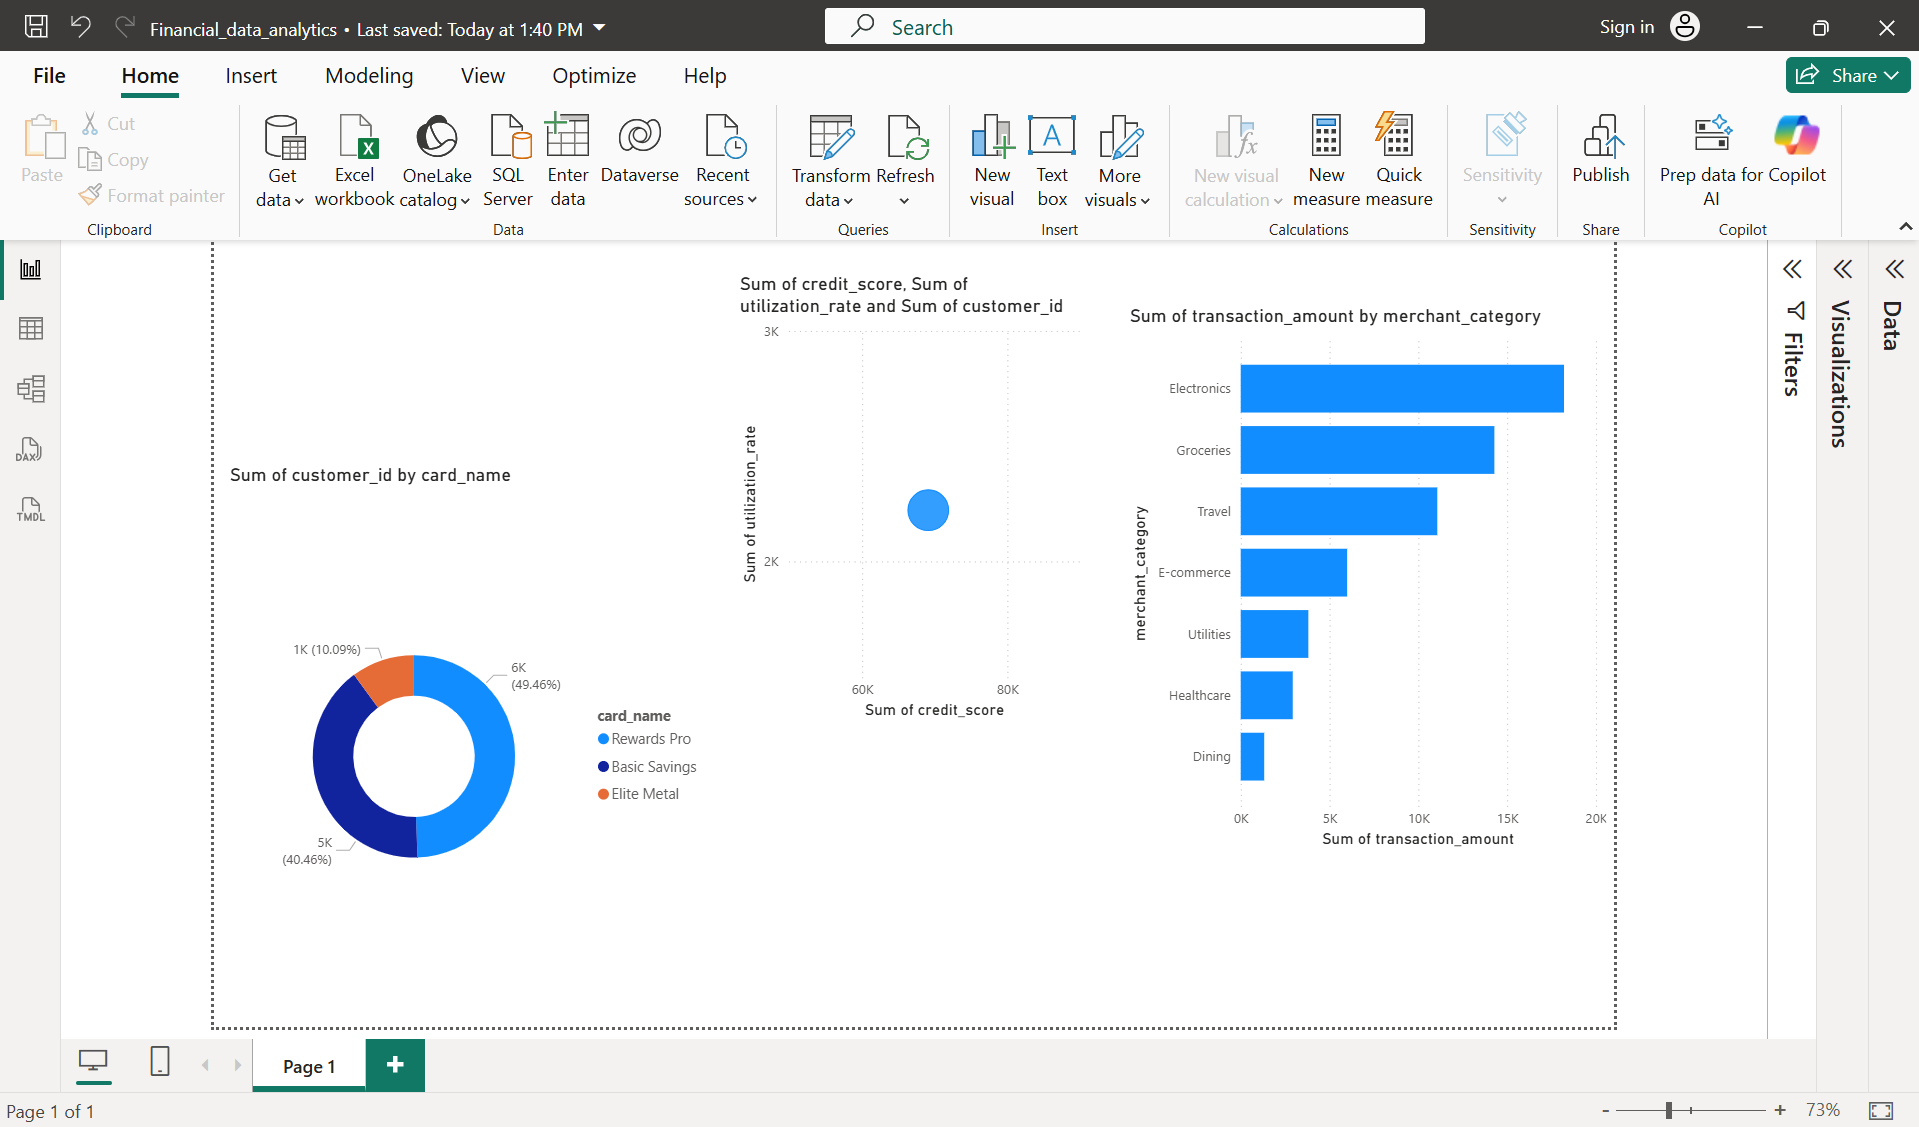

This screenshot's page, from the dashboard's own definition file:
{"tool":"powerbi","page":{"name":"Page 1","canvas":[1280,720],"ordinal":0},"visuals":[{"type":"scatterChart","fields":{"X":["Sum(Credit card data.credit_score)"],"Y":["Sum(Credit card data.utilization_rate)"],"Size":["Sum(Credit card data.customer_id)"]},"box":[476.2,30.2,330.7,412],"z":0},{"type":"clusteredBarChart","fields":{"Category":["Credit card data.merchant_category"],"Y":["Sum(Credit card data.transaction_amount)"]},"box":[833.4,58.6,446,500.8],"z":1},{"type":"donutChart","fields":{"Y":["Sum(Credit card data.customer_id)"],"Category":["Credit card data.card_name"]},"box":[9.4,204.1,446,515.9],"z":2}]}

Visuals, with their boxes on the page's 1280x720 design canvas (x1, y1, x2, y2). These are canvas units, not pixel positions in the 1919x1127 screenshot, which may show the page scaled, cropped or inside an application window:
scatterChart - Sum(Credit card data.credit_score) x Sum(Credit card data.utilization_rate): [476, 30, 807, 442]
clusteredBarChart - Credit card data.merchant_category x Sum(Credit card data.transaction_amount): [833, 59, 1279, 559]
donutChart - Sum(Credit card data.customer_id) x Credit card data.card_name: [9, 204, 455, 720]
